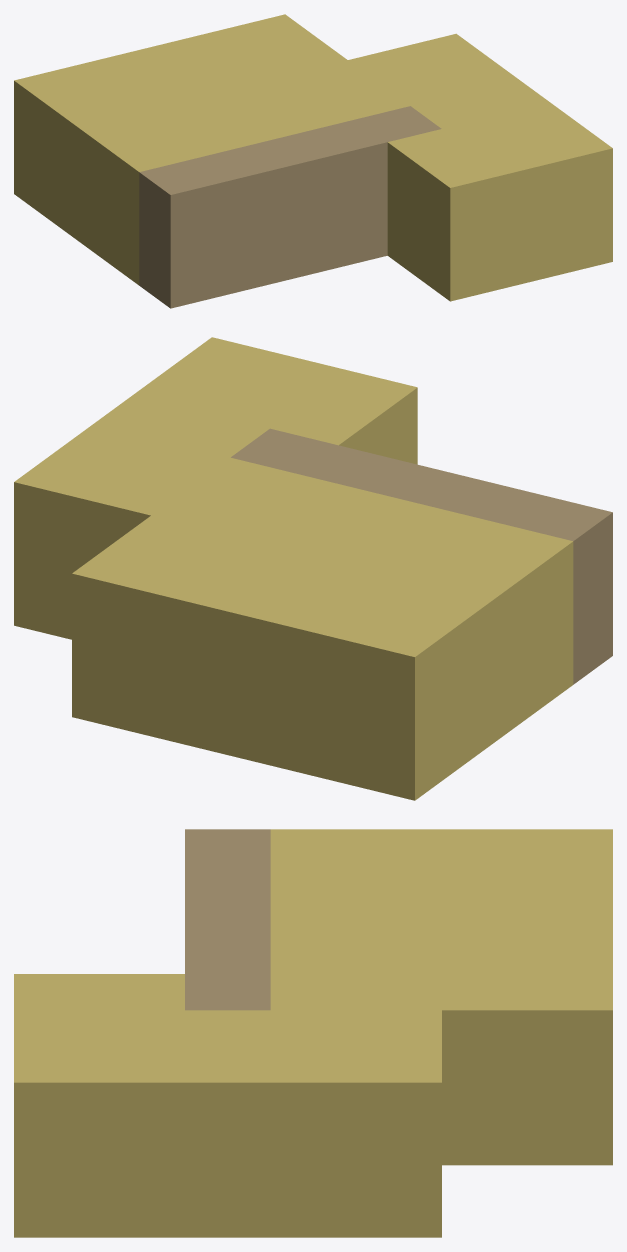
Rendered from moneda_suelta_bronce_01.glb.
The picture shows the model from 3 angles, top to bottom: view 1: azimuth 30°, elevation 25°; view 2: azimuth 150°, elevation 25°; view 3: azimuth 270°, elevation 25°; orthographic projection. The views are drawn at different scales.
Parts seen in each view (by area): view 1: moneda_suelta_bronce; view 2: moneda_suelta_bronce; view 3: moneda_suelta_bronce.
Part boxes in pixels (left/top/right/bottom): moneda_suelta_bronce: left=14, top=14, right=612, bottom=308; moneda_suelta_bronce: left=14, top=337, right=612, bottom=800; moneda_suelta_bronce: left=14, top=829, right=612, bottom=1237.
Size of the model in its own units: 0.7 by 0.2 by 0.7.
